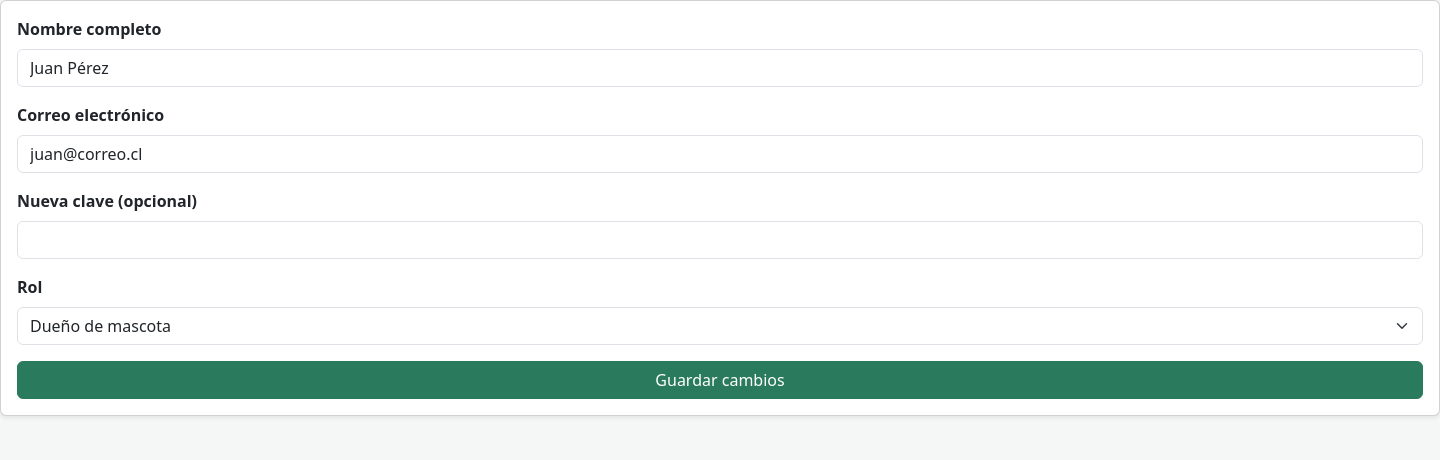
FormularioUsuario › al editar, rechaza una clave nueva demasiado corta
Type "123" into the password field labelled "Nueva clave (opcional)" at point(720, 240), box left=17, top=221, right=1423, bottom=259
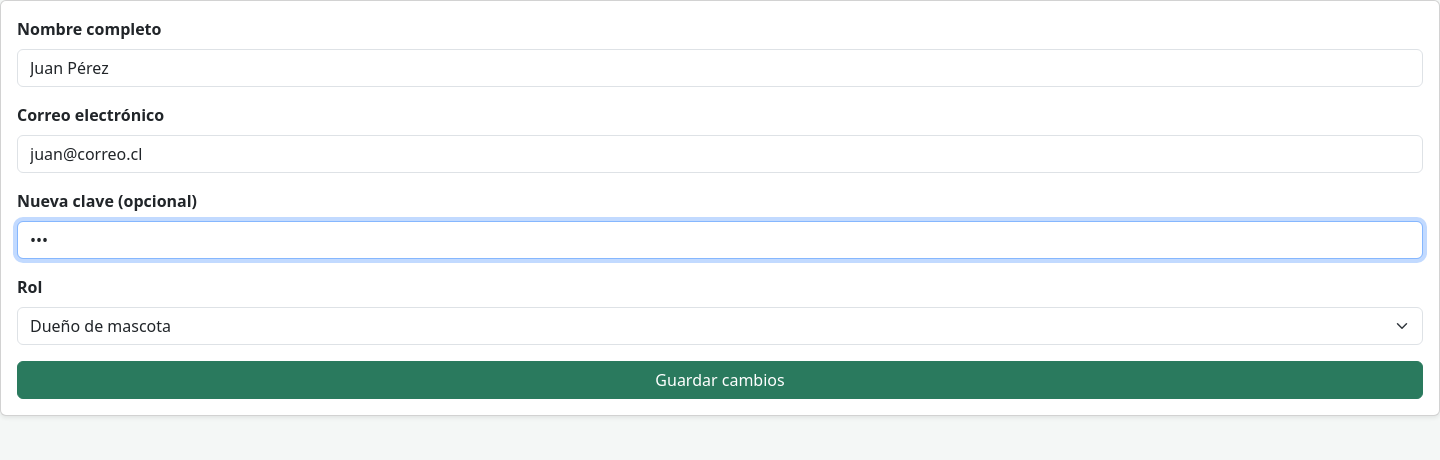
Click the button "Guardar cambios" at point(720, 380), box left=17, top=361, right=1423, bottom=399
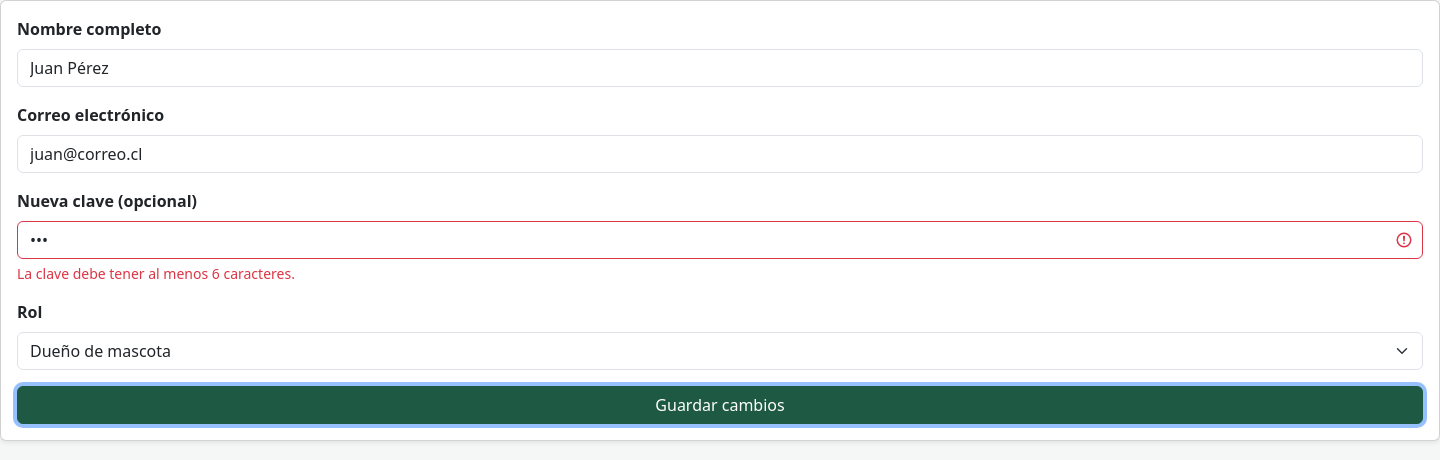
Check: the message shows "al menos 6 caracteres", box left=17, top=264, right=295, bottom=283
